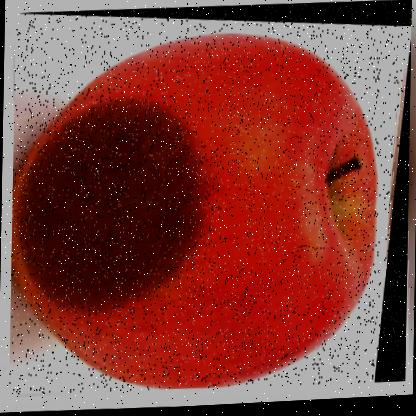apple_rotten: (8, 0, 412, 402)
